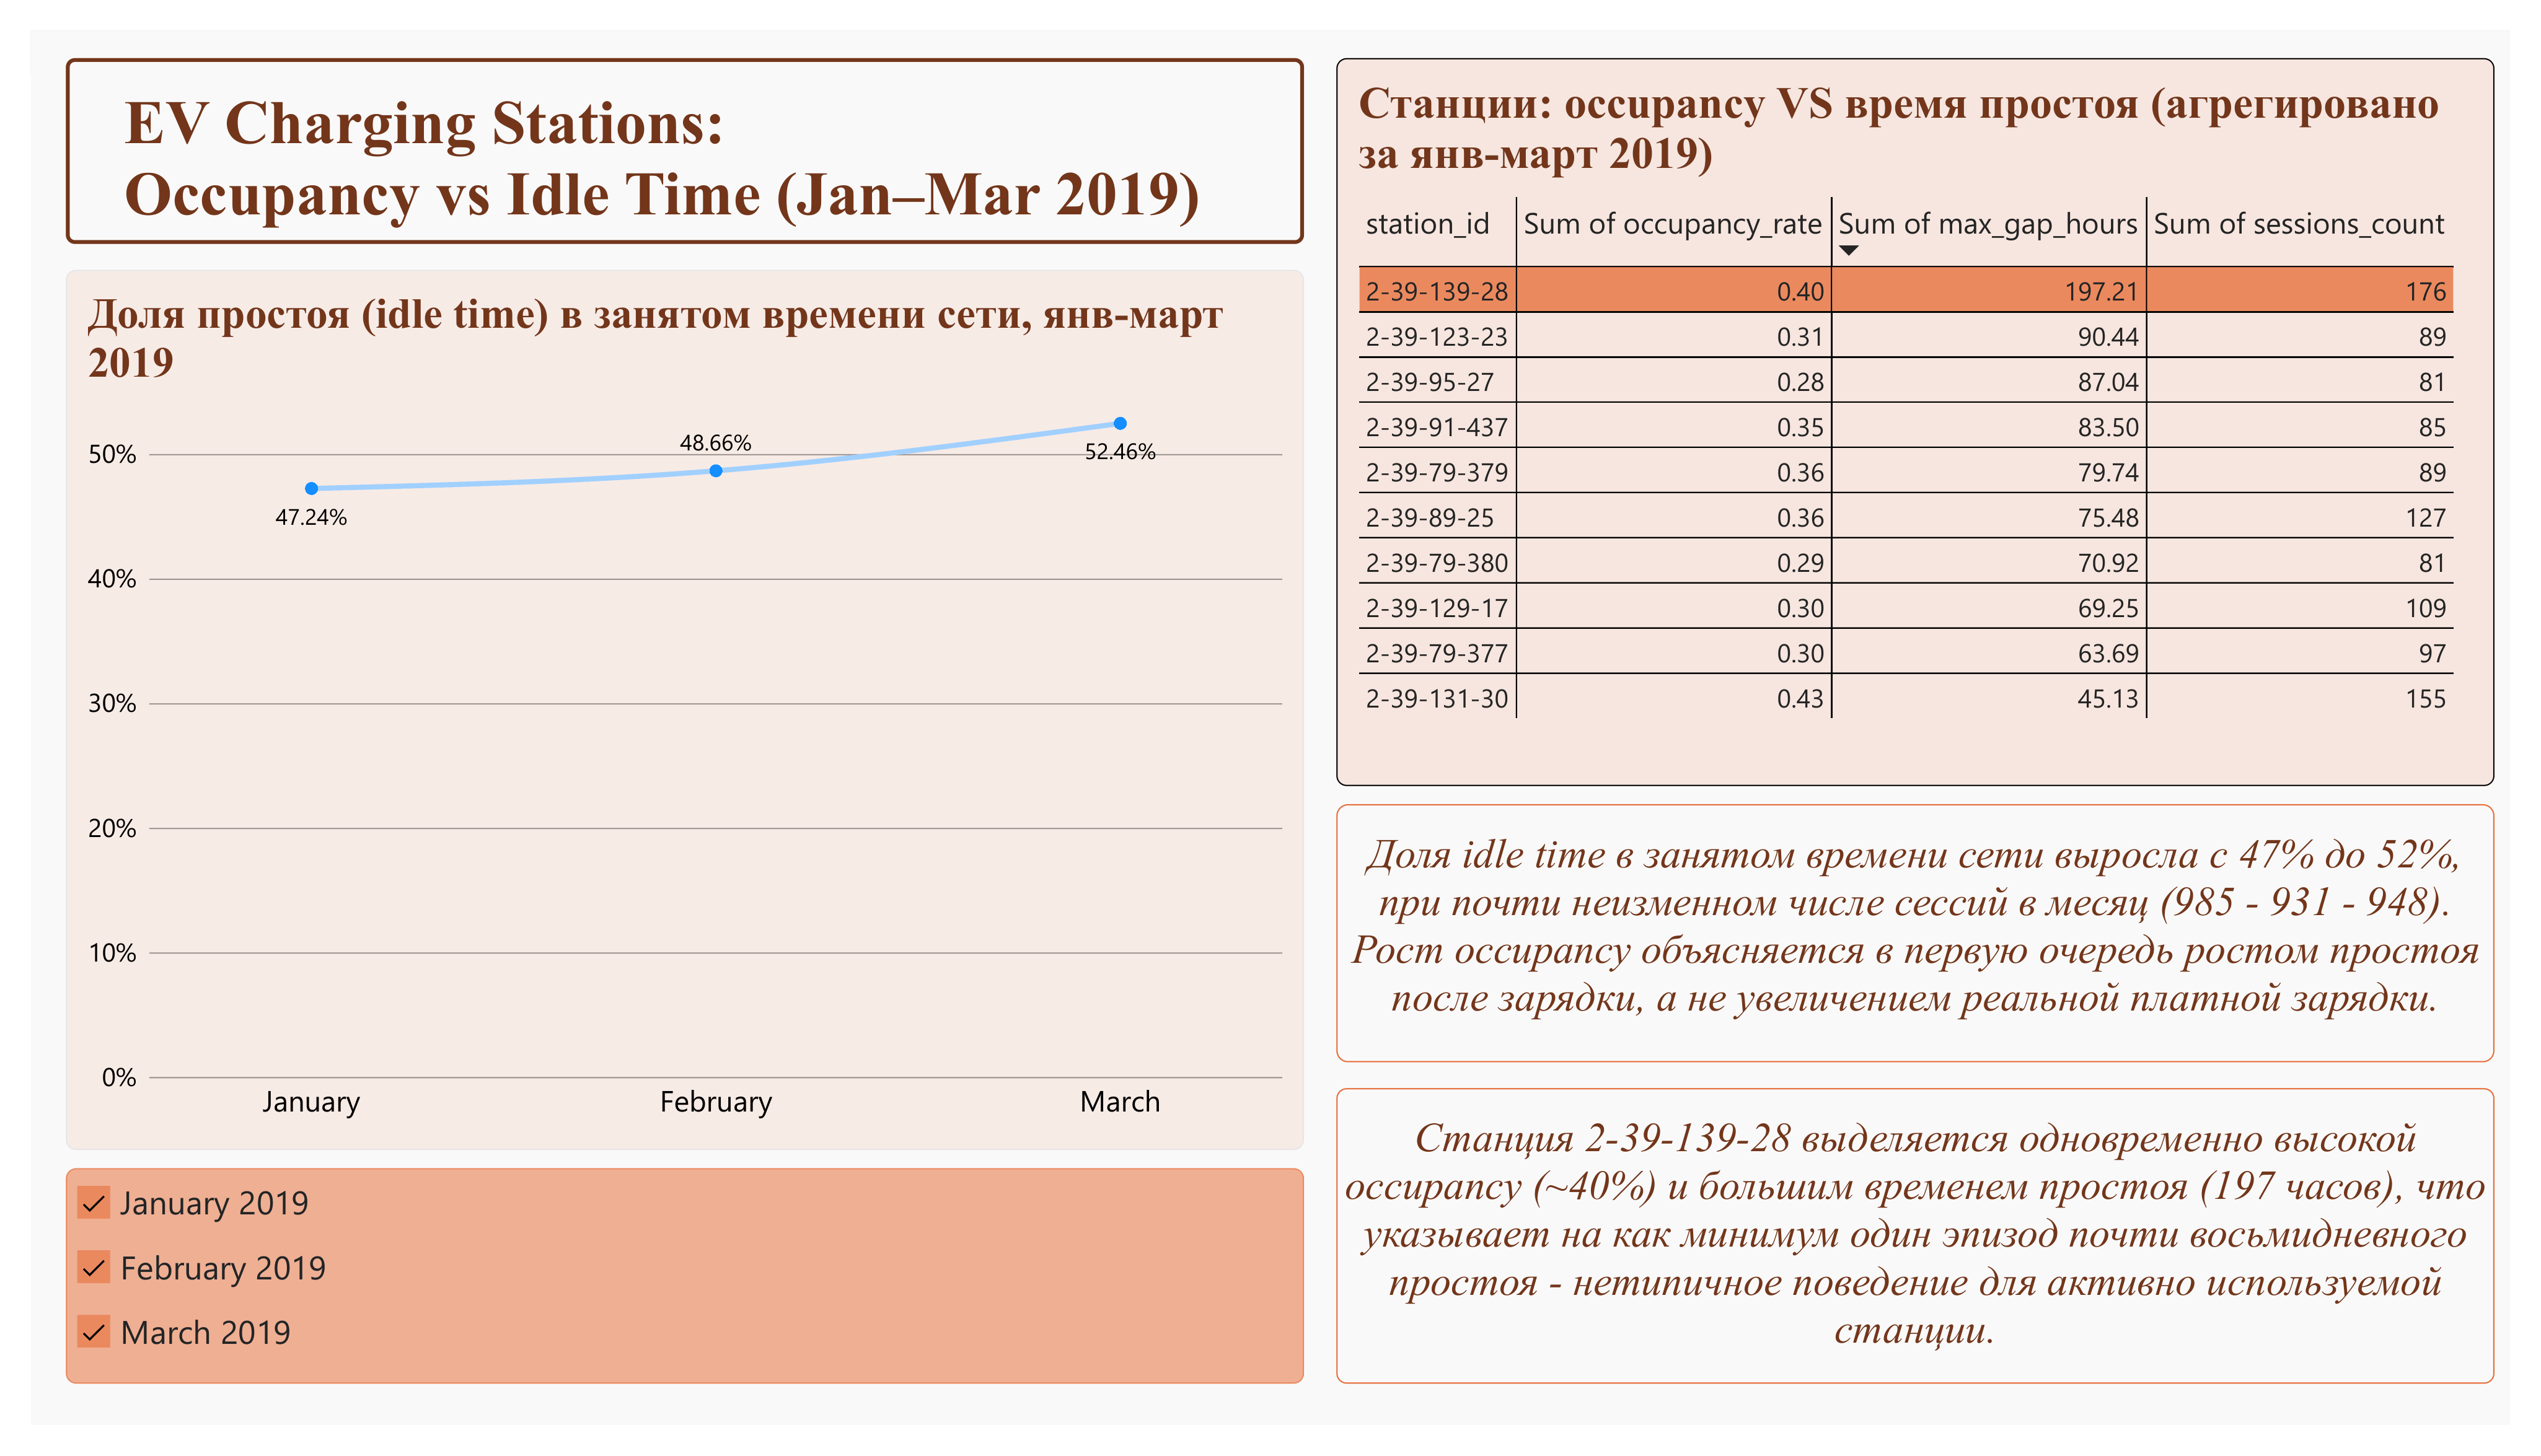

What the dashboard file says about the page in this screenshot:
{"tool":"powerbi","page":{"name":"occupancy/idle time","canvas":[1920,1080],"ordinal":0},"visuals":[{"type":"lineChart","title":"Доля простоя (idle time) в занятом времени сети, янв-март 2019","fields":{"Category":["h1_h3_monthly_trend.month.Variation.Date Hierarchy.Month"],"Y":["Sum(h1_h3_monthly_trend.idle_share)"]},"box":[26.8,185.2,959.2,681.3],"z":0},{"type":"tableEx","title":"Станции: occupancy VS время простоя (агрегировано за янв-март 2019)","fields":{"Values":["h2_gaps_joined.station_id","Sum(h2_gaps_joined.occupancy_rate)","Sum(h2_gaps_joined.max_gap_hours)","Sum(h2_gaps_joined.sessions_count)"]},"box":[1010.6,20.6,897.4,564],"z":1000},{"type":"textbox","box":[1010.6,819.2,897.4,228.5],"z":2000},{"type":"textbox","box":[1010.6,599,897.4,199.7],"z":3000},{"type":"slicer","fields":{"Values":["h1_h3_monthly_trend.month"]},"box":[26.8,881,959.2,166.7],"z":4000},{"type":"textbox","box":[26.8,20.6,959.2,144.1],"z":5000}]}

Visuals, with their boxes on the page's 1920x1080 design canvas (x1, y1, x2, y2). These are canvas units, not pixel positions in the 2541x1456 screenshot, which may show the page scaled, cropped or inside an application window:
"Доля простоя (idle time) в занятом времени сети, янв-март 2019" lineChart: 27,185,986,866
"Станции: occupancy VS время простоя (агрегировано за янв-март 2019)" tableEx: 1011,21,1908,585
textbox: 1011,819,1908,1048
textbox: 1011,599,1908,799
slicer - h1_h3_monthly_trend.month: 27,881,986,1048
textbox: 27,21,986,165
